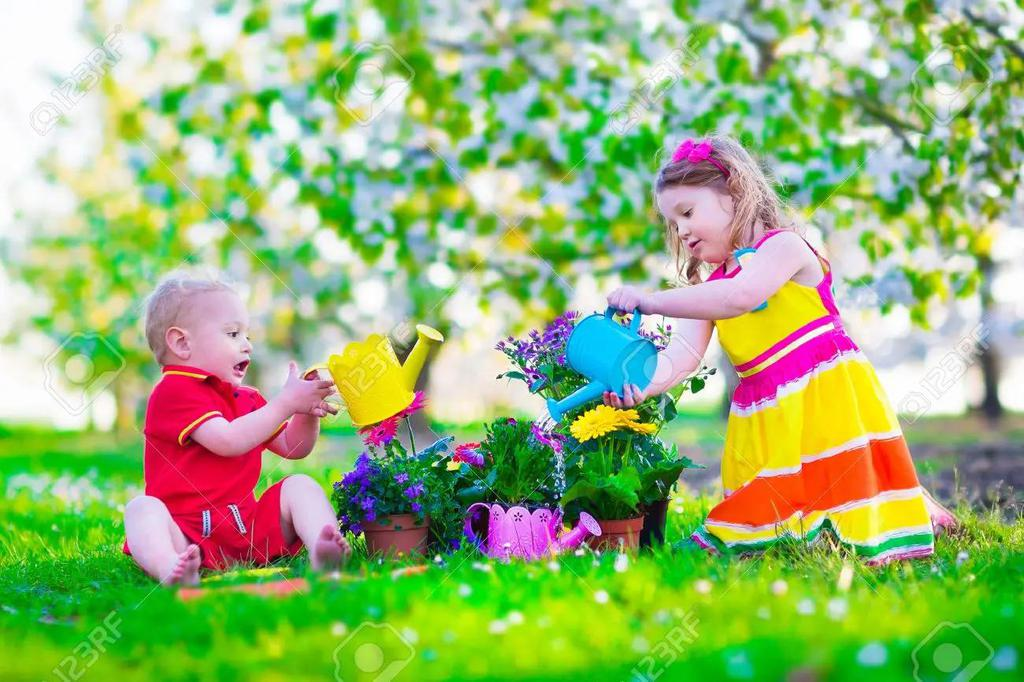child: (607, 125, 992, 574), (92, 261, 368, 586)
